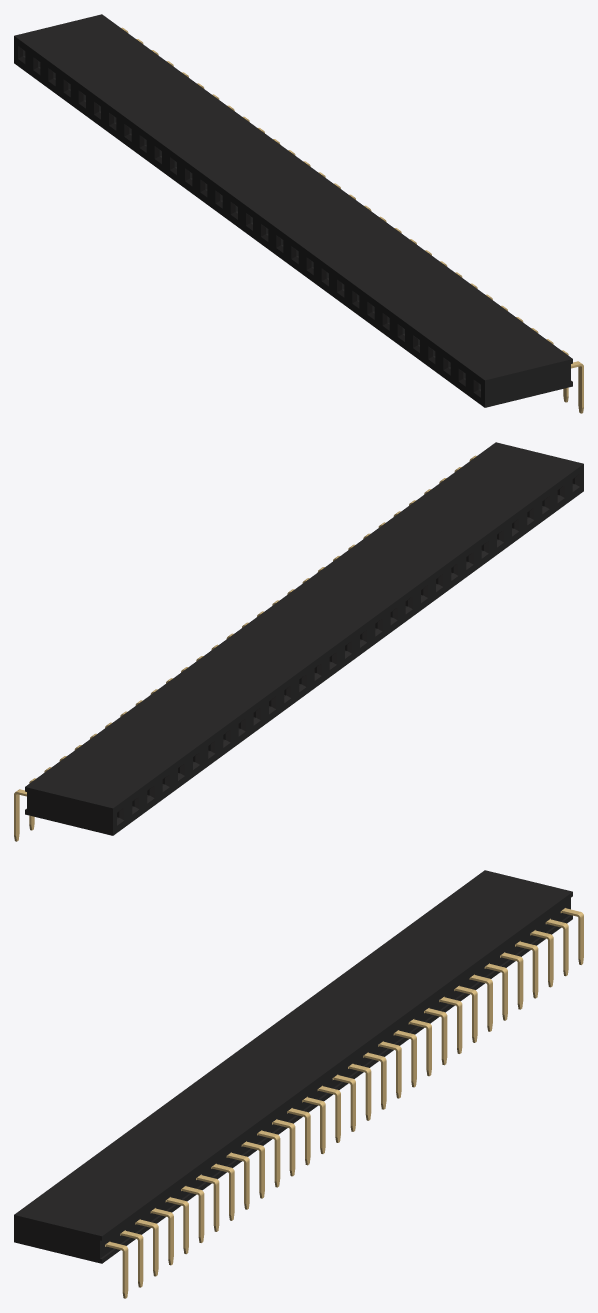
The model's file is kc-pinsocket_1x31_p2.54mm_horizontal.glb.
3 renders of one model, top to bottom at view 1: azimuth 30°, elevation 25°; view 2: azimuth 150°, elevation 25°; view 3: azimuth 330°, elevation 25°, orthographic.
Visible parts, largest first — view 1: 0_0_0_0, 0.75_0.5_0.25_0.9; view 2: 0_0_0_0, 0.75_0.5_0.25_0.9; view 3: 0_0_0_0, 0.75_0.5_0.25_0.9.
Part boxes in pixels (x1,y1,x2,y2): 0_0_0_0: [14, 14, 572, 407]; 0.75_0.5_0.25_0.9: [121, 27, 583, 413]; 0_0_0_0: [25, 442, 583, 835]; 0.75_0.5_0.25_0.9: [14, 455, 476, 841]; 0_0_0_0: [14, 870, 572, 1263]; 0.75_0.5_0.25_0.9: [105, 908, 583, 1298].
Size of the model in its own units: 1.01 by 0.5838 by 7.87.
